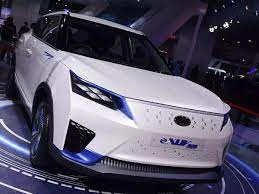XUV 400: (5, 9, 234, 186)
